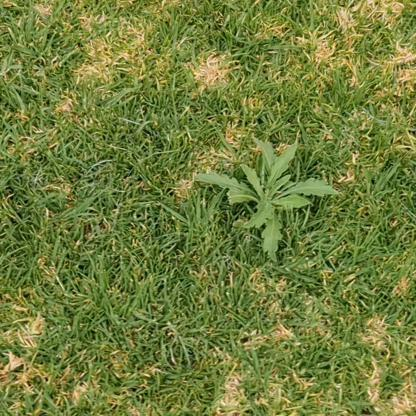Weeds: (196, 136, 338, 263)
